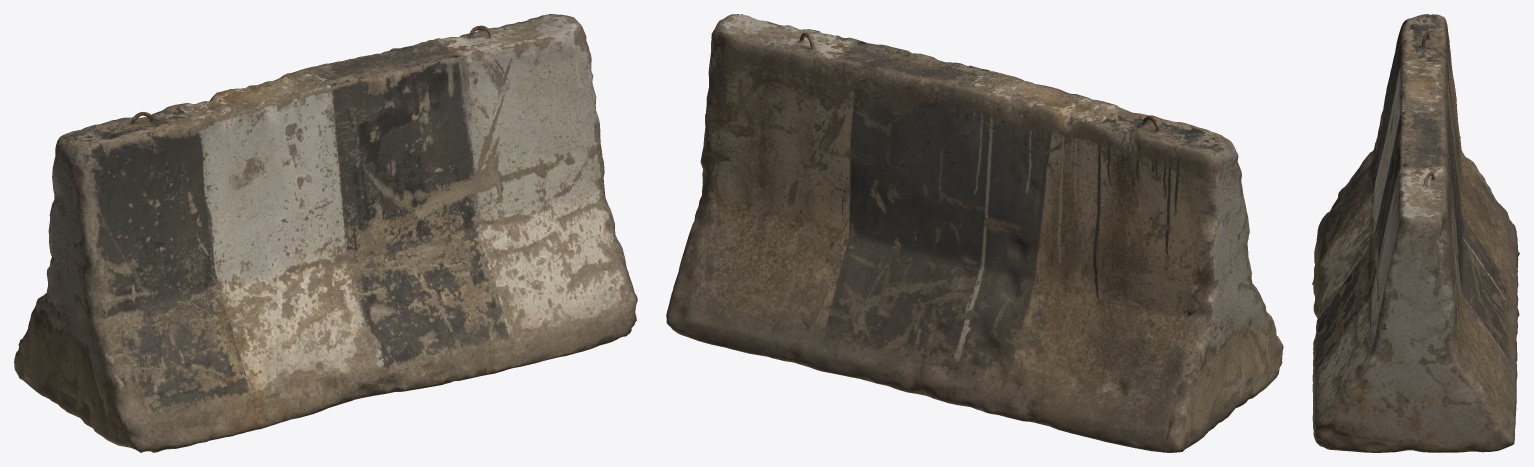
The model's file is concrete_road_barrier.glb.
The picture shows the model from 3 angles, left to right: view 1: azimuth 30°, elevation 25°; view 2: azimuth 150°, elevation 25°; view 3: azimuth 270°, elevation 25°; orthographic projection. The views are drawn at different scales.
Visible parts, largest first — view 1: concrete_road_barrier; view 2: concrete_road_barrier; view 3: concrete_road_barrier.
Part boxes in pixels (x1,y1,x2,y2): concrete_road_barrier: (14, 14, 637, 452); concrete_road_barrier: (666, 14, 1283, 452); concrete_road_barrier: (1312, 14, 1519, 452).
Size of the model in its own units: 1.54 by 0.8309 by 0.6386.
Materials: 1 (1 with a texture image).
